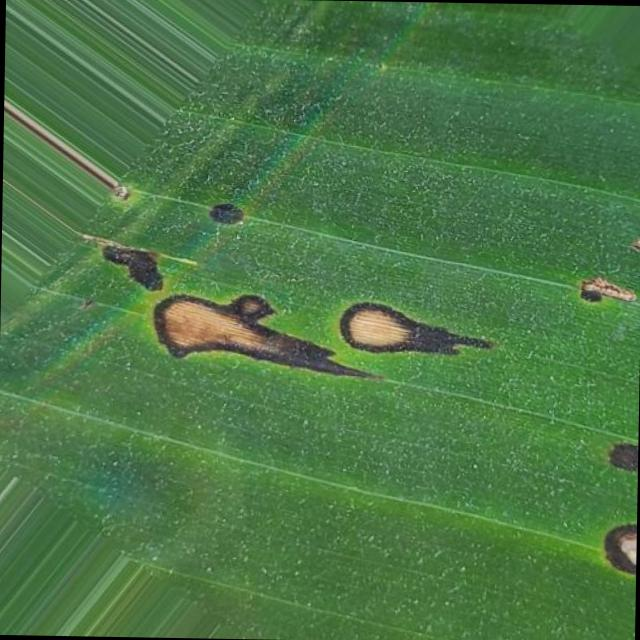Banana_Black_Sigatoka: (72, 165, 565, 523)
